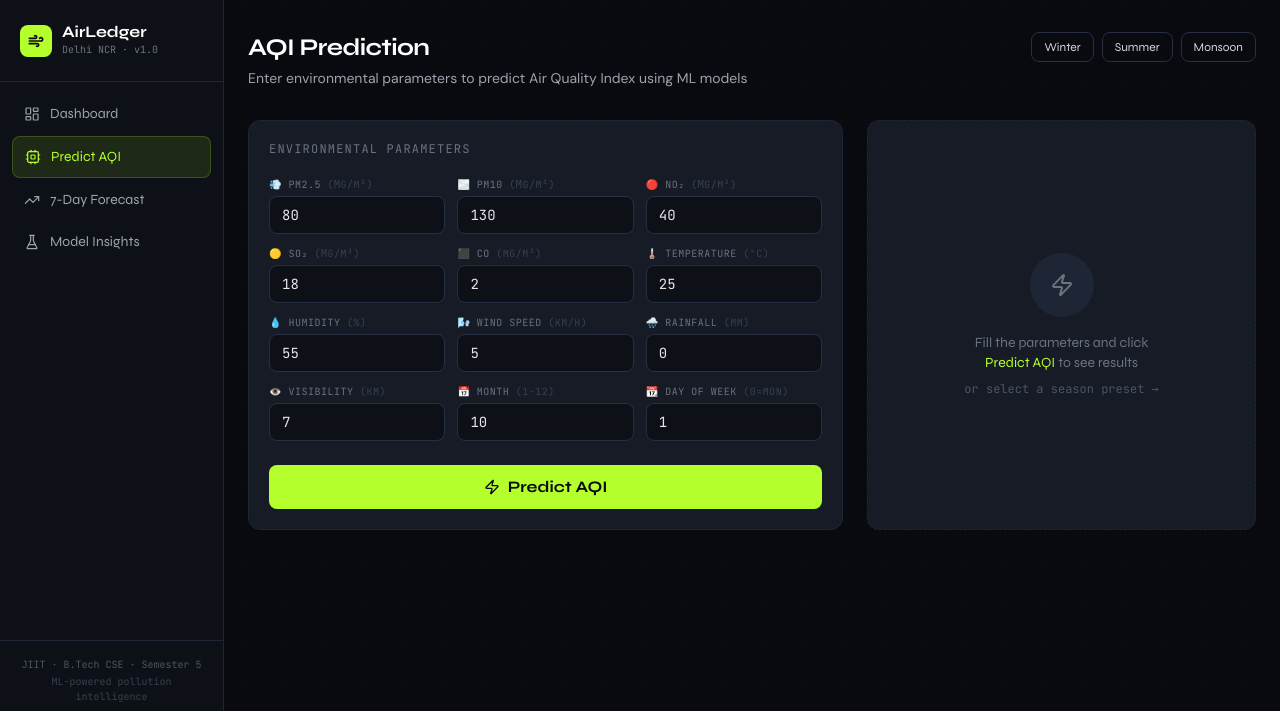
Test: AirLedger pages › rejects a blank pollutant and accepts a seasonal preset
Clear the number field labelled "💨 PM2.5 (μg/m³)" at [357, 215], box [269,196,445,234]
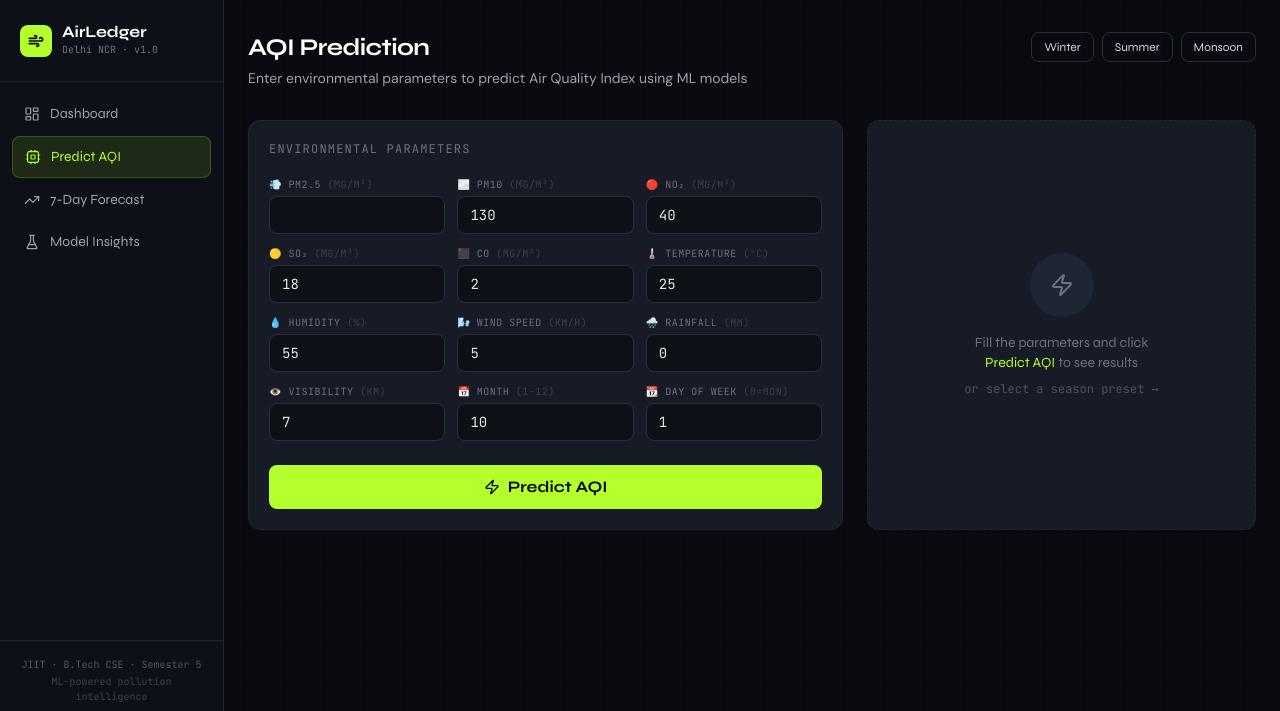
Click the button "Predict AQI" at [546, 487], box [269,465,822,509]
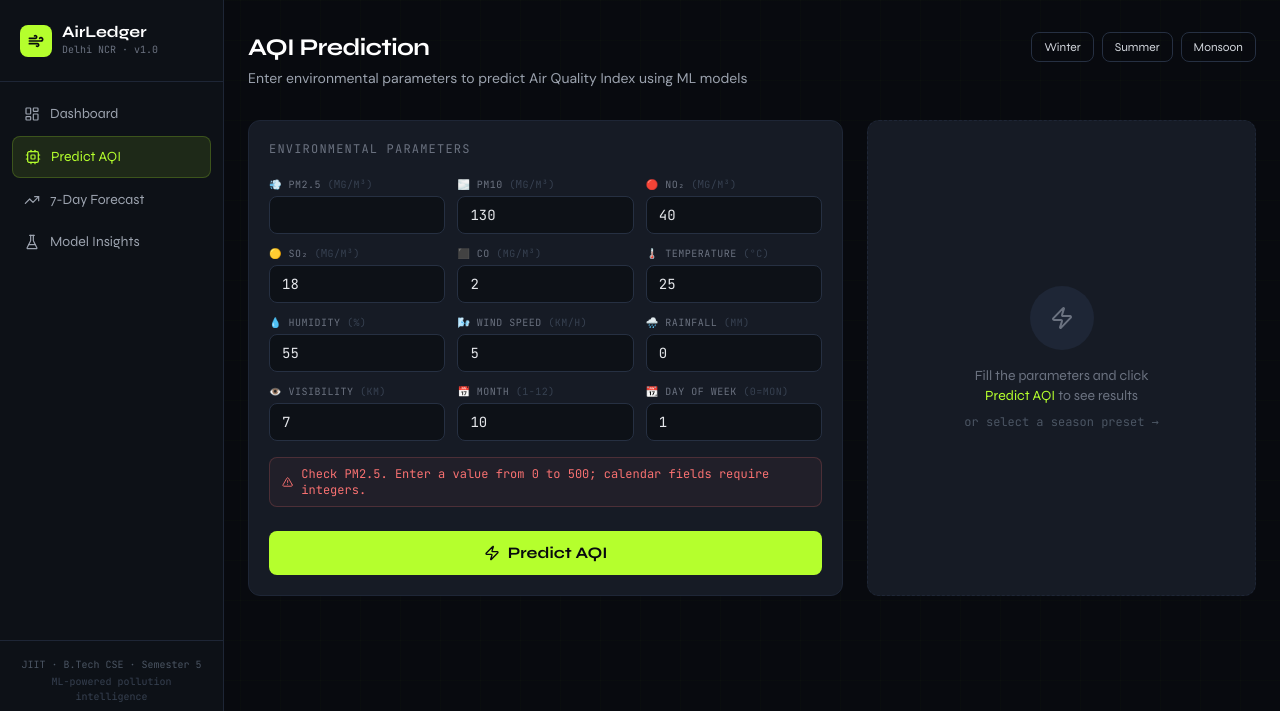
Expected: the message shows "PM2.5", [301,466,769,498]
Click the button "Winter" at [1063, 47], box [1031,32,1094,62]
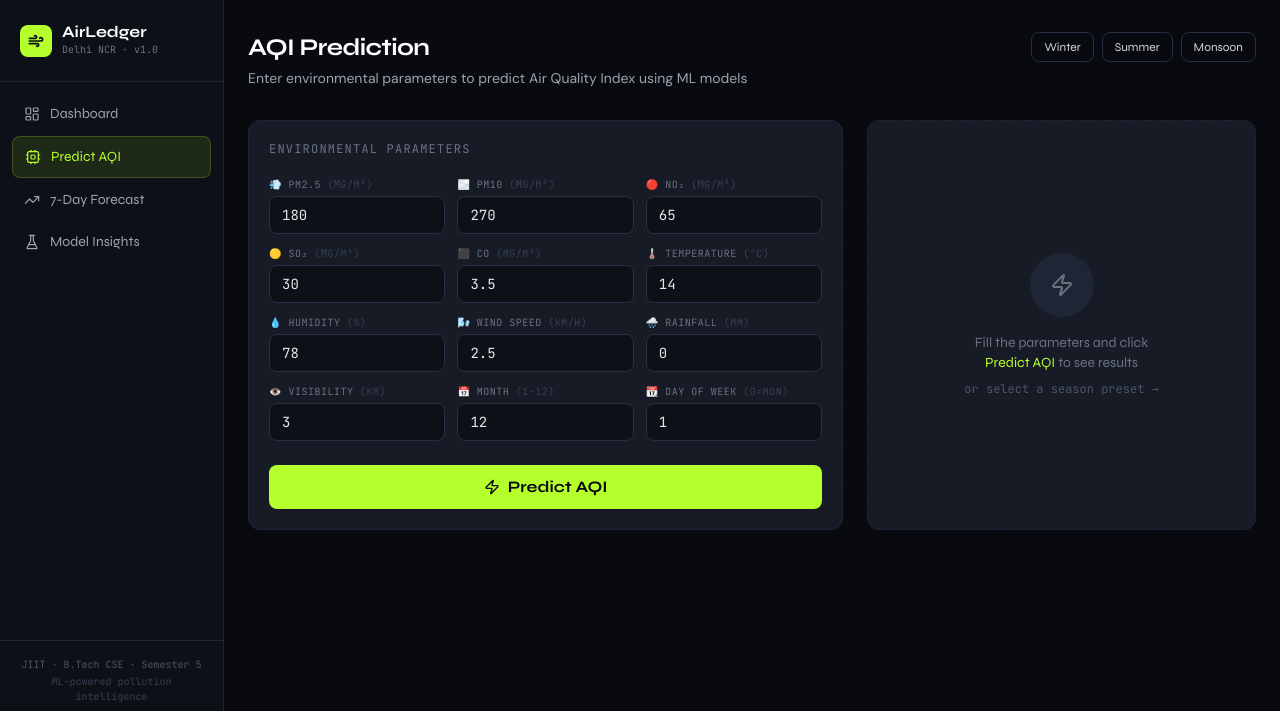
Click the button "Predict AQI" at [546, 487], box [269,465,822,509]
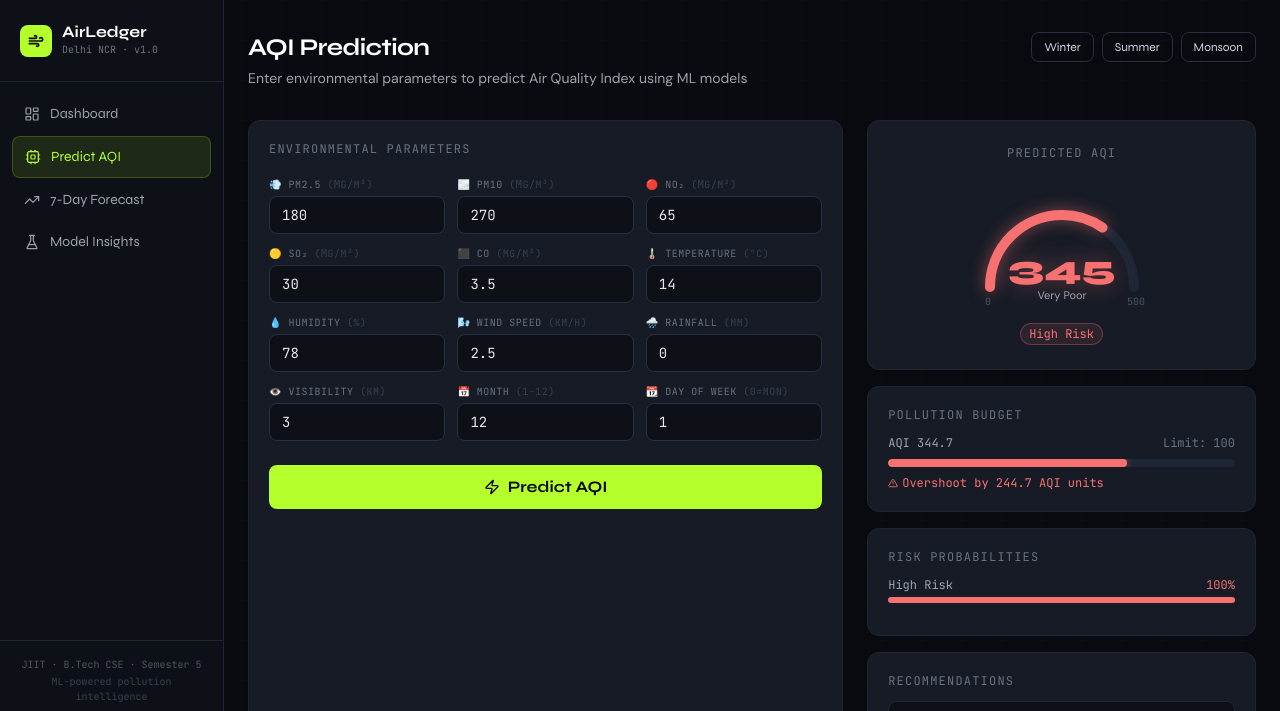
Expected: the text "Overshoot by 244.7 AQI units" is shown, [888,475,1104,491]
